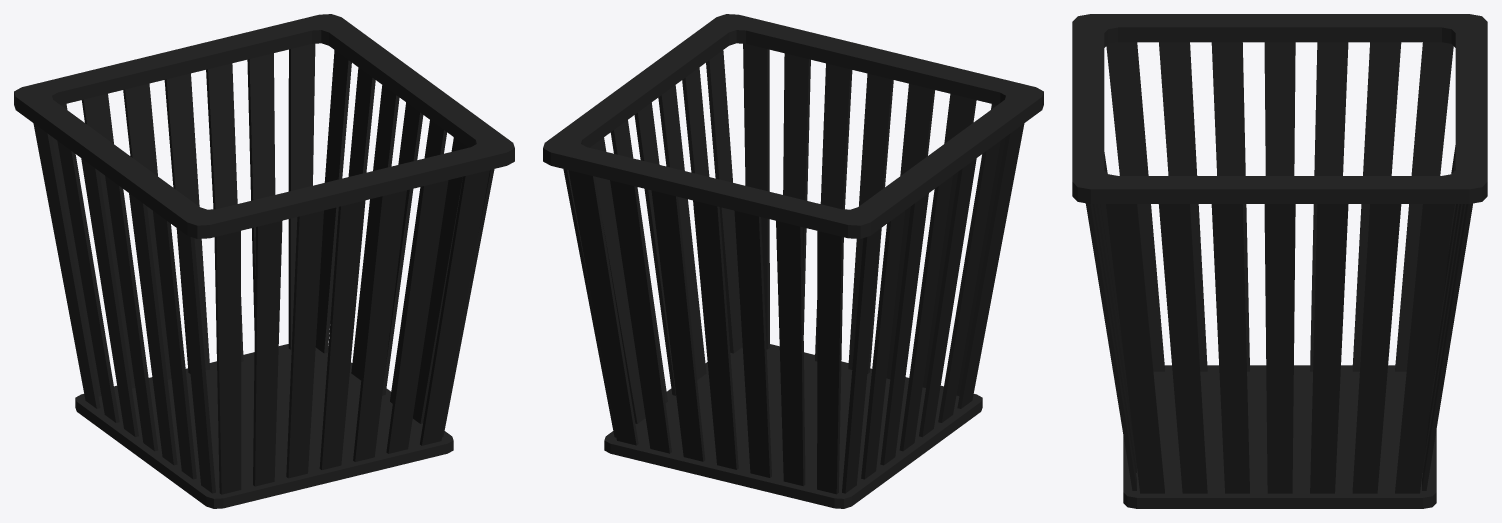
Rendered from brazier.fbx.
3 views of the same model, side by side, from view 1: azimuth 30°, elevation 25°; view 2: azimuth 150°, elevation 25°; view 3: azimuth 270°, elevation 25° (orthographic). The views are drawn at different scales.
Visible parts, largest first — view 1: koksownik; view 2: koksownik; view 3: koksownik.
Part boxes in pixels (x1=…): koksownik: x1=14, y1=14, x2=514, y2=508; koksownik: x1=543, y1=14, x2=1043, y2=508; koksownik: x1=1072, y1=14, x2=1487, y2=508.
Bounding box in the file's own units: 46.36 × 42.04 × 46.36.
1 material, 1 textured.
